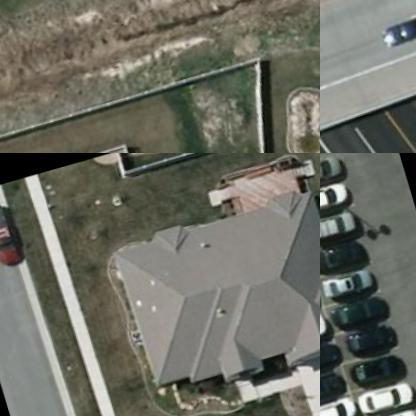car: (0, 199, 38, 276), (350, 353, 416, 395), (341, 323, 407, 365), (330, 292, 396, 334), (322, 264, 388, 306), (320, 235, 380, 278), (320, 204, 371, 247), (360, 381, 415, 415), (320, 178, 361, 221), (320, 153, 357, 193), (320, 369, 357, 409), (382, 14, 415, 49), (320, 340, 346, 381), (320, 396, 363, 415), (320, 311, 335, 352)
